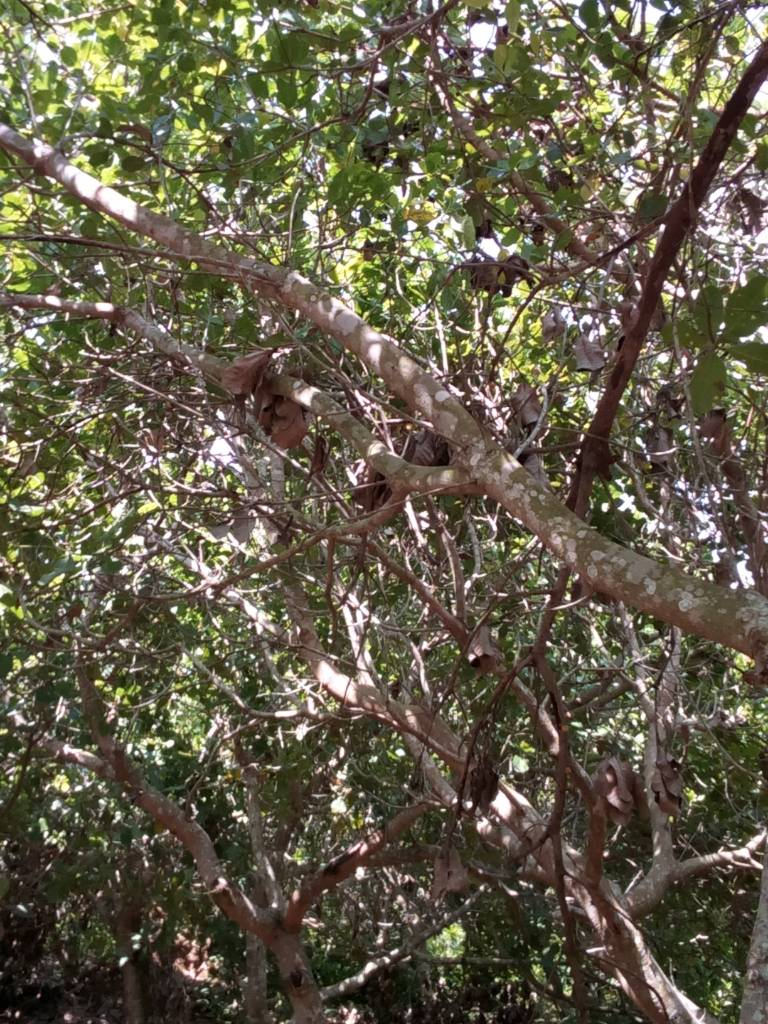Dessèchement des bourgeons: (449, 677, 524, 836), (535, 307, 621, 388), (452, 257, 568, 294), (221, 349, 283, 392)
